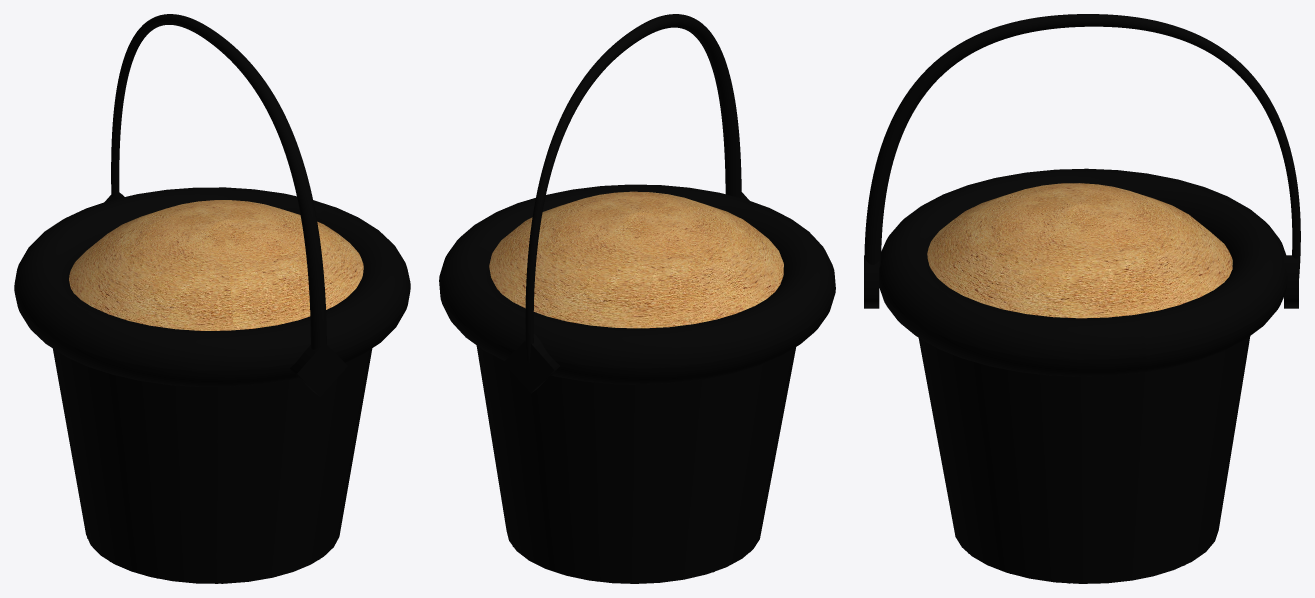
File: dirt.fbx
The picture shows the model from 3 angles, left to right: view 1: azimuth 30°, elevation 25°; view 2: azimuth 150°, elevation 25°; view 3: azimuth 270°, elevation 25°; orthographic projection. The views are drawn at different scales.
Visible parts, largest first — view 1: dirt; view 2: dirt; view 3: dirt.
Part boxes in pixels (bbox=[...]): dirt: bbox=[14, 14, 410, 583]; dirt: bbox=[439, 14, 835, 583]; dirt: bbox=[864, 14, 1300, 583].
Size of the model in its own units: 34.68 by 47.78 by 36.72.
2 materials, 1 textured.
